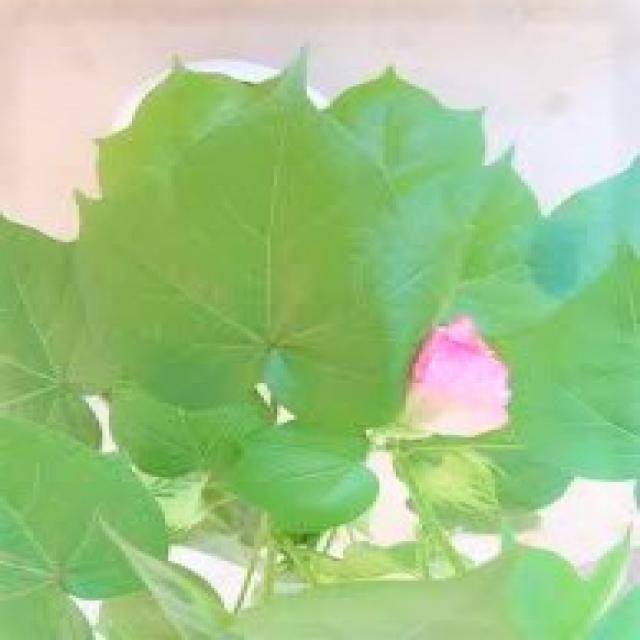Healthy Leaf: (33, 22, 640, 640)
